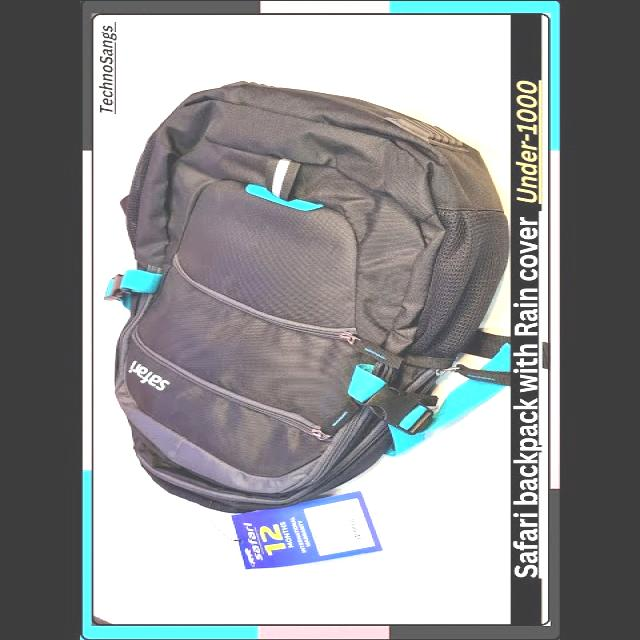backpack: (104, 81, 514, 515)
